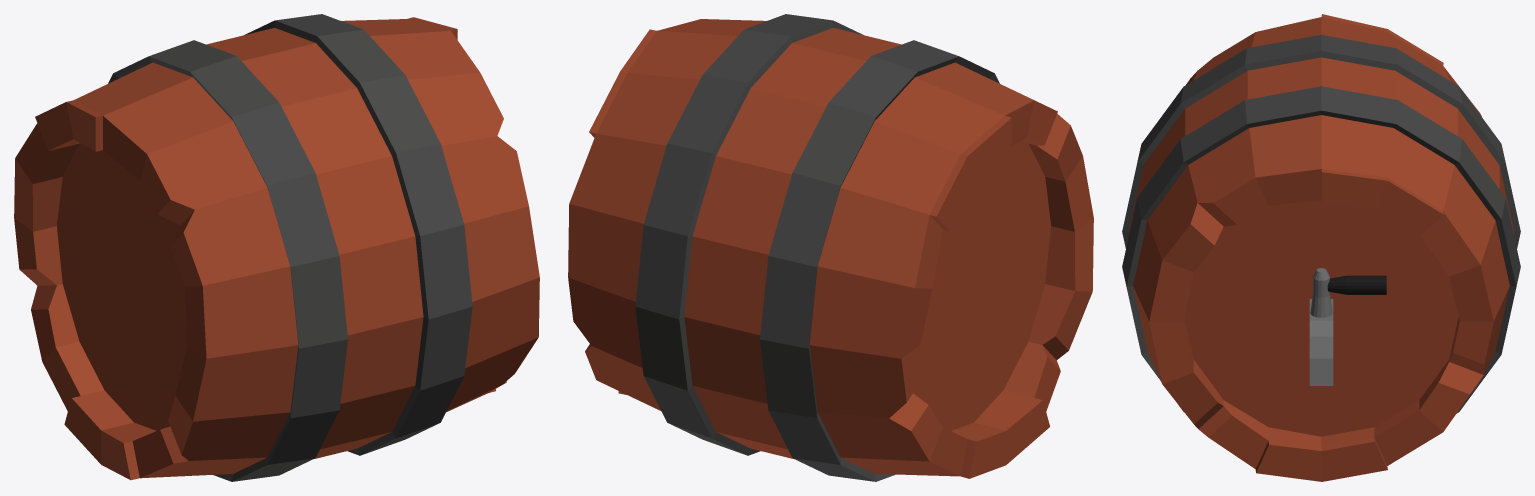
File: beerbarrel.fbx
3 renders of one model, left to right at view 1: azimuth 30°, elevation 25°; view 2: azimuth 150°, elevation 25°; view 3: azimuth 270°, elevation 25°, orthographic. The views are drawn at different scales.
Parts seen in each view (by area): view 1: Cylinder; view 2: Cylinder; view 3: Cylinder, Cylinder.002, Cylinder.001.
Boxes of the visible parts, <box> form: Cylinder: <box>14,14,539,481</box>; Cylinder: <box>568,14,1093,481</box>; Cylinder: <box>1122,14,1520,481</box>; Cylinder.002: <box>1327,275,1386,294</box>; Cylinder.001: <box>1310,268,1332,317</box>.
Size of the model in its own units: 250 by 231 by 231.
